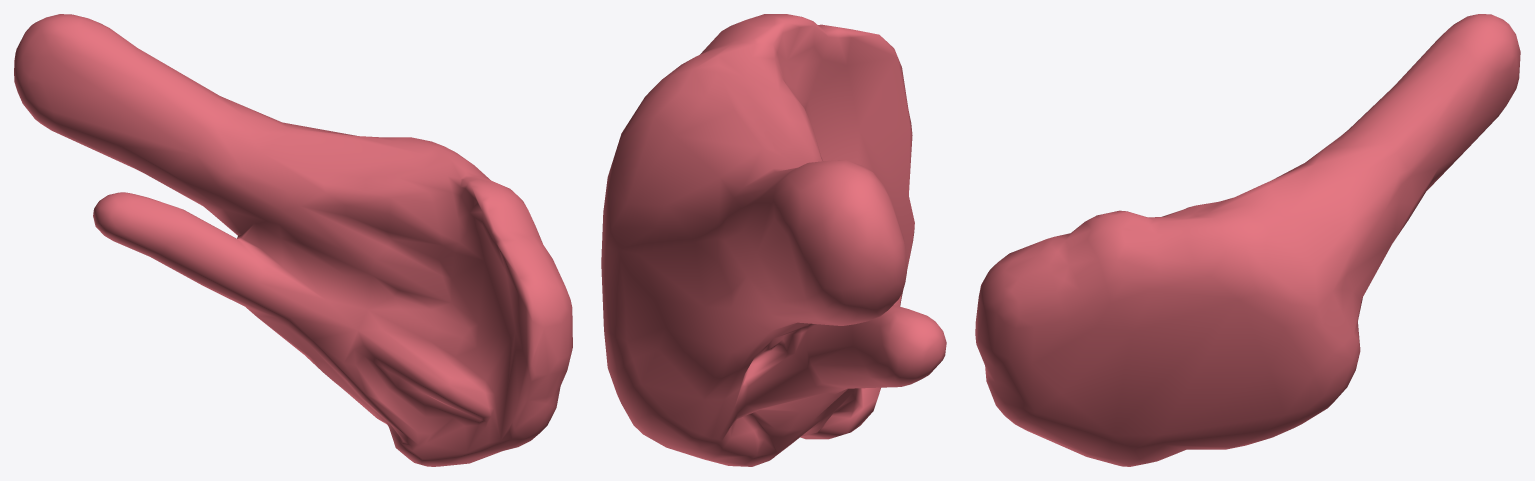
3 renders of one model, left to right at view 1: azimuth 30°, elevation 25°; view 2: azimuth 150°, elevation 25°; view 3: azimuth 270°, elevation 25°, orthographic. The views are drawn at different scales.
Visible parts, largest first — view 1: ZA_4eb83028e6764e5b; view 2: ZA_4eb83028e6764e5b; view 3: ZA_4eb83028e6764e5b.
Part boxes in pixels (x1,y1,x2,y2): ZA_4eb83028e6764e5b: (14,14,572,466); ZA_4eb83028e6764e5b: (601,14,946,466); ZA_4eb83028e6764e5b: (975,14,1520,466).
Size of the model in its own units: 0.0295 by 0.0311 by 0.0437.
